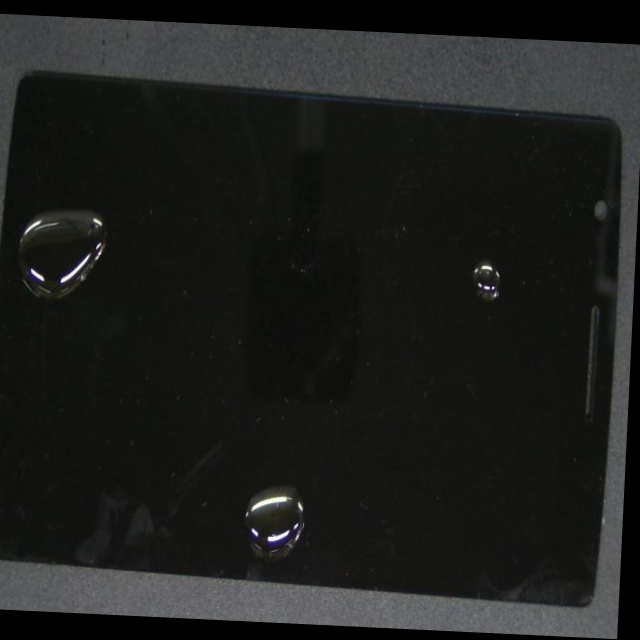oil: (130, 286, 495, 633), (236, 133, 640, 385), (0, 191, 136, 420)
